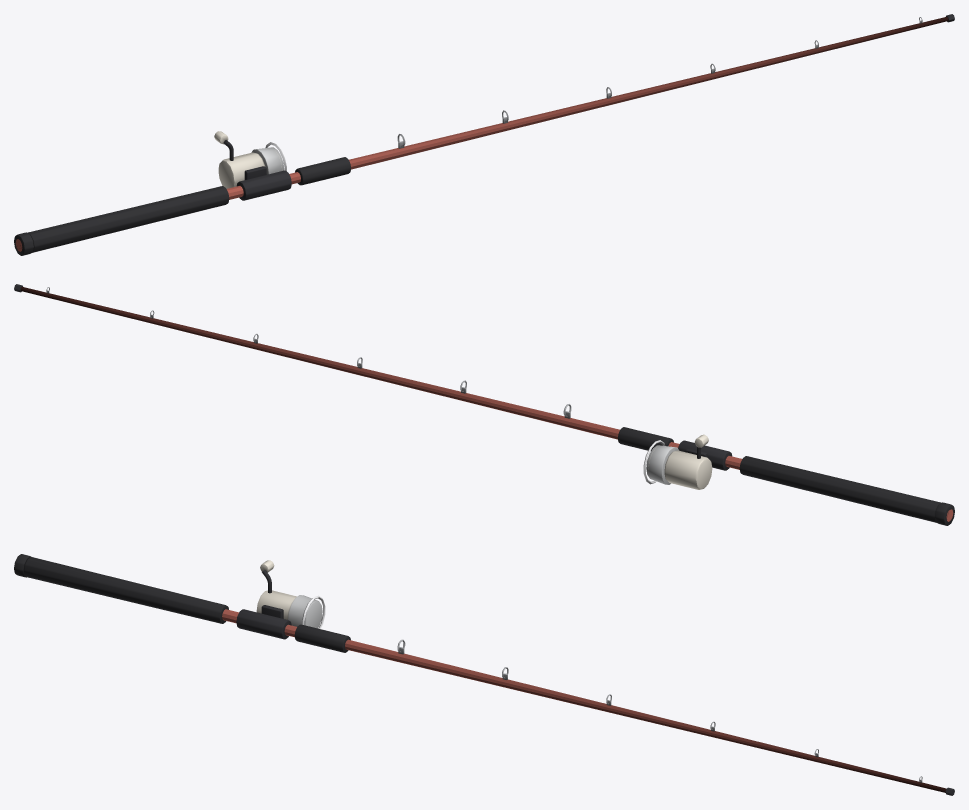
The model's file is rod_heavy.glb.
3 views of the same model, one above another, from view 1: azimuth 30°, elevation 25°; view 2: azimuth 150°, elevation 25°; view 3: azimuth 330°, elevation 25° (orthographic).
Parts seen in each view (by area): view 1: PART; view 2: PART; view 3: PART.
Boxes of the visible parts, left/top/right/bottom form: PART: left=14, top=14, right=954, bottom=255; PART: left=14, top=284, right=954, bottom=525; PART: left=14, top=554, right=954, bottom=795.
Size of the model in its own units: 1.91 by 0.1194 by 0.1263.
